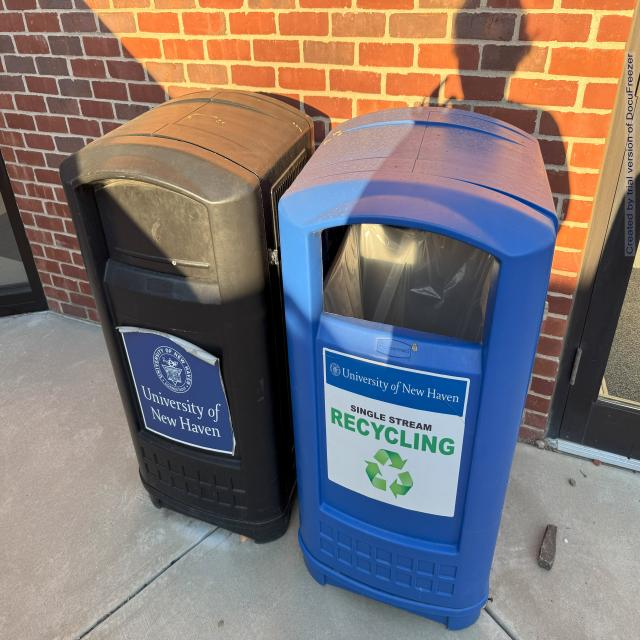Trash bin: (44, 62, 301, 563), (310, 44, 514, 628)
